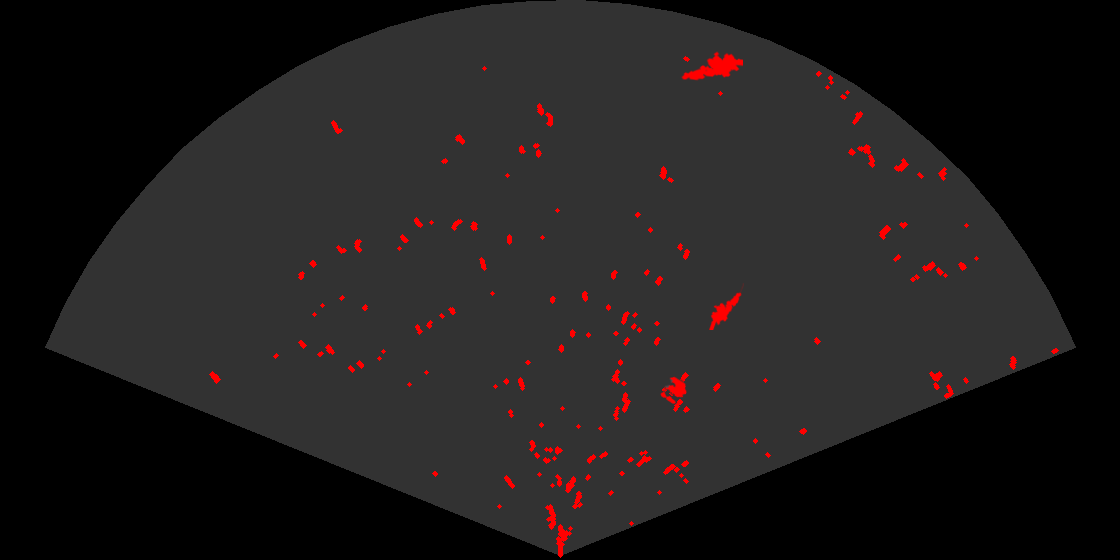ball: (659, 375, 688, 406)
frogman: (680, 50, 743, 82), (708, 283, 744, 330)
